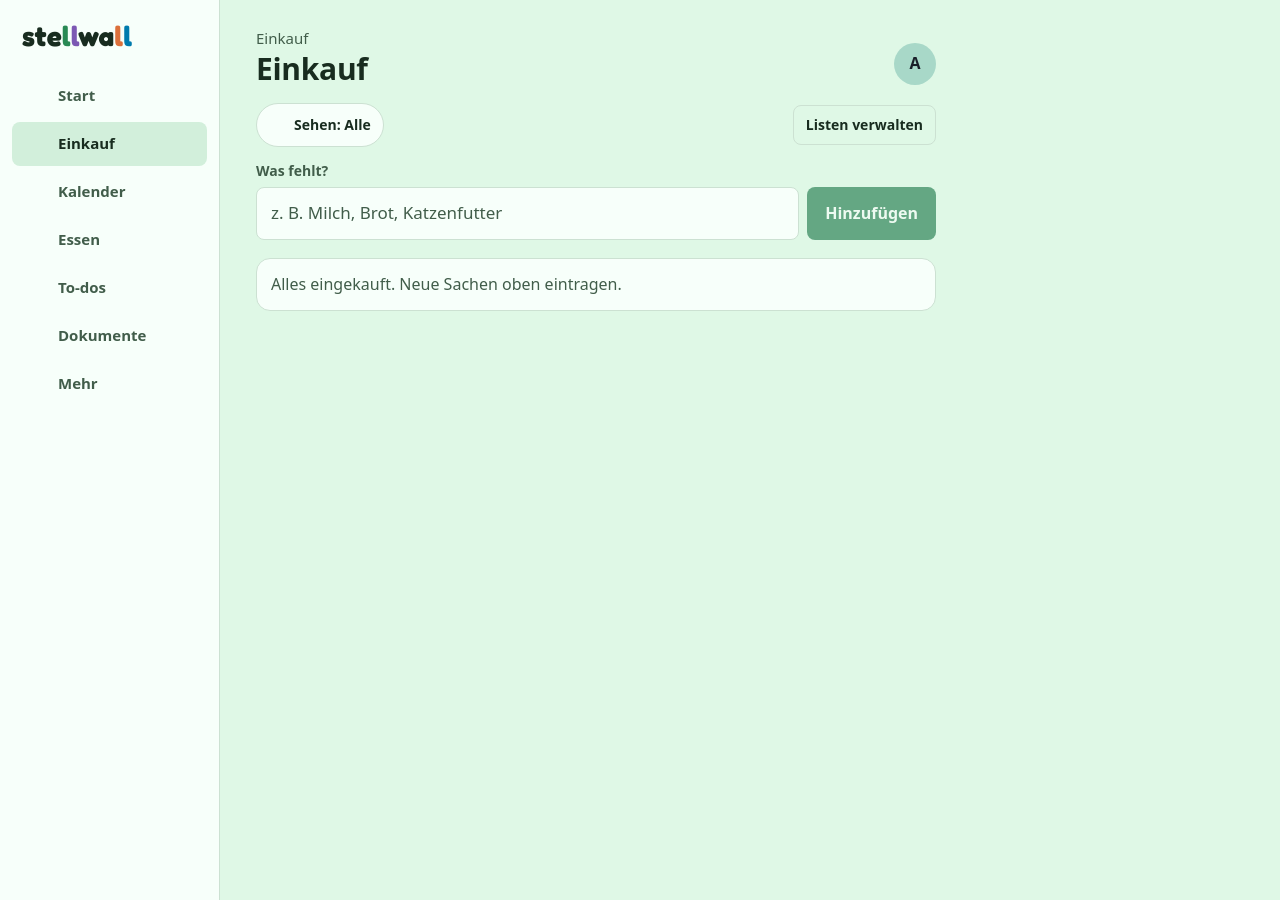
Test: shopping › visibility sheet keeps self selected
Click the button "Sehen: Alle" at point(320, 125), box [256,103,384,147]
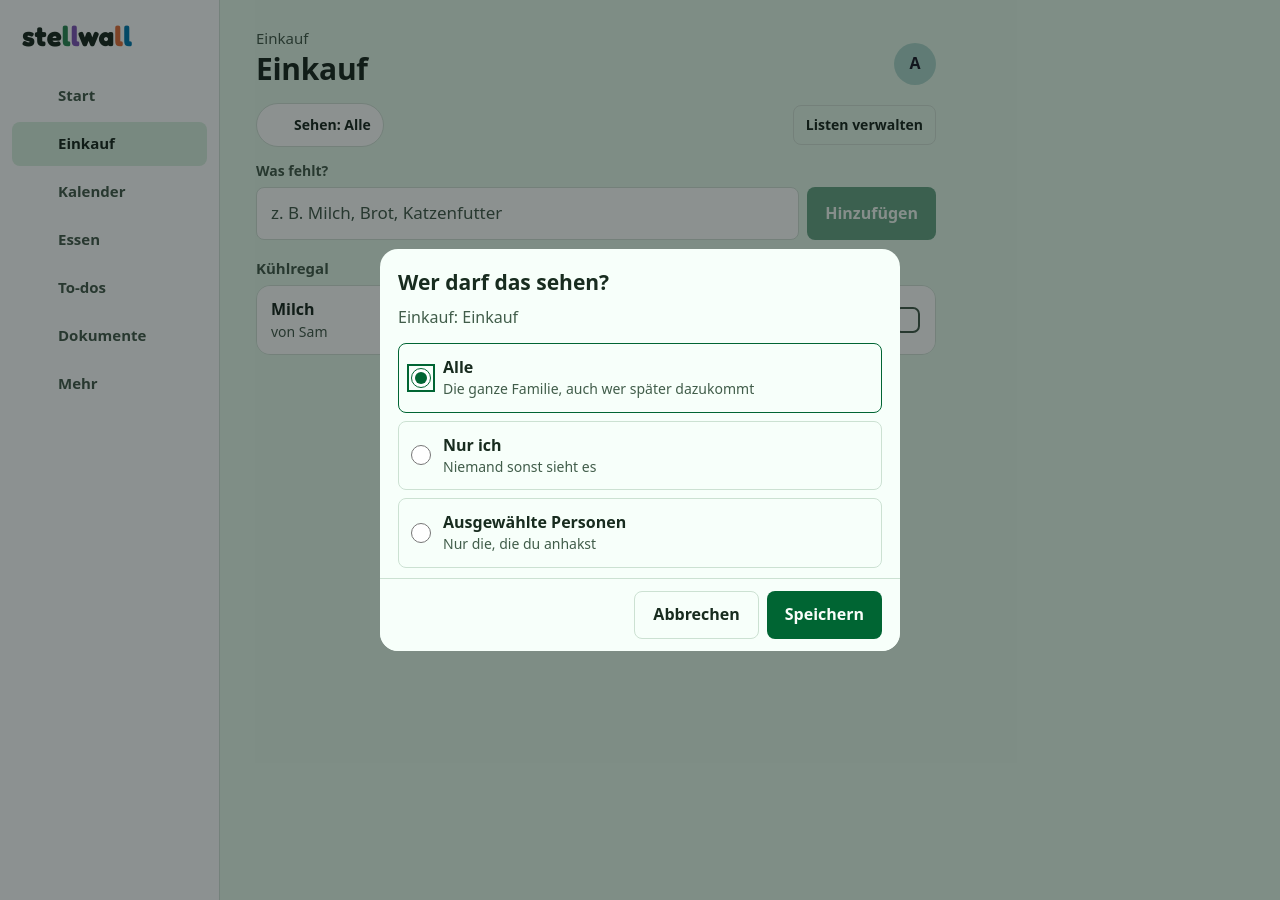
Click the radio button labelled "Ausgewählte Personen Nur die, die du anhakst" at point(421, 533), box [411,523,431,543]
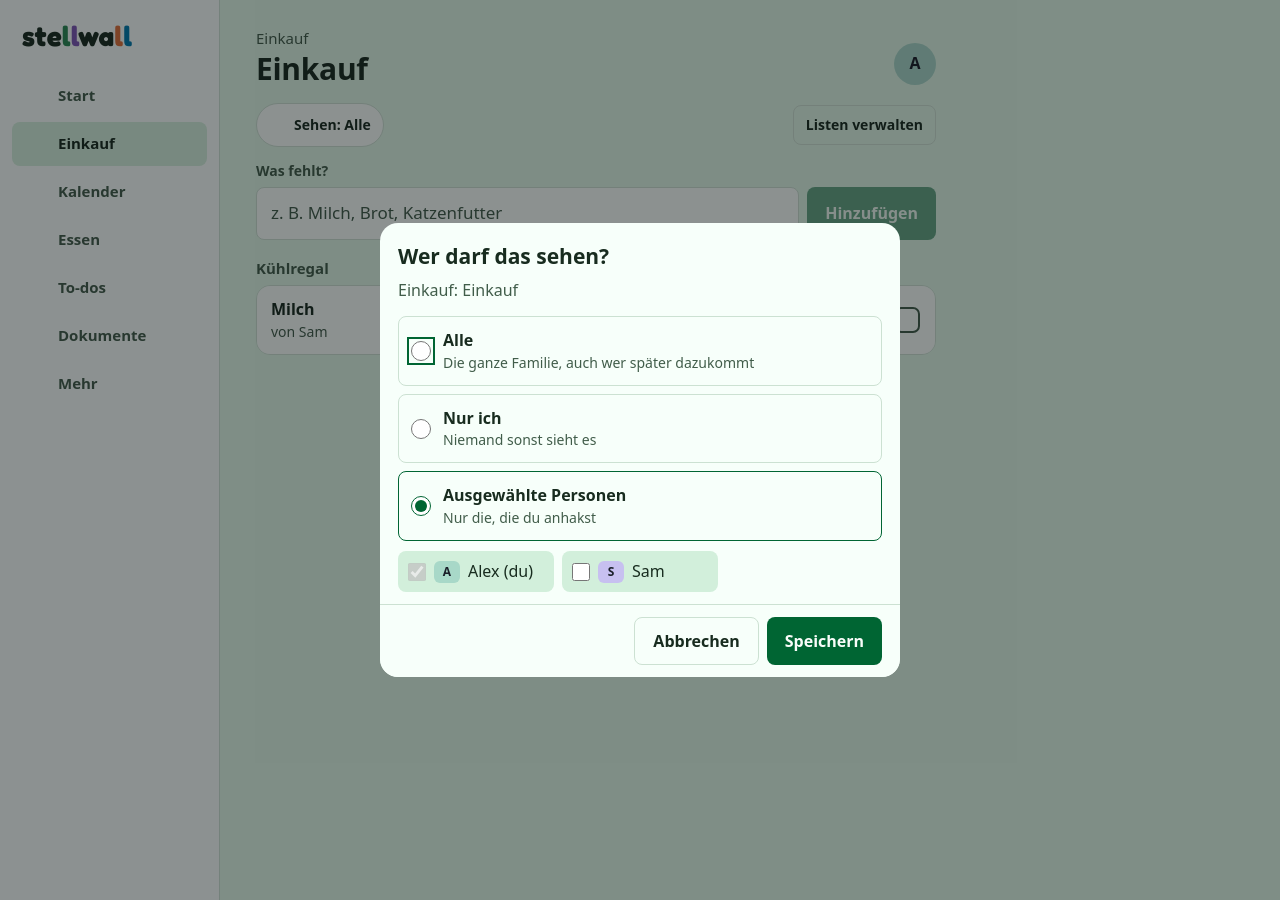
Expected: the checkbox labelled "A Alex (du)" is checked, [408,562,426,580]
Expected: the checkbox labelled "A Alex (du)" is disabled, [408,562,426,580]
